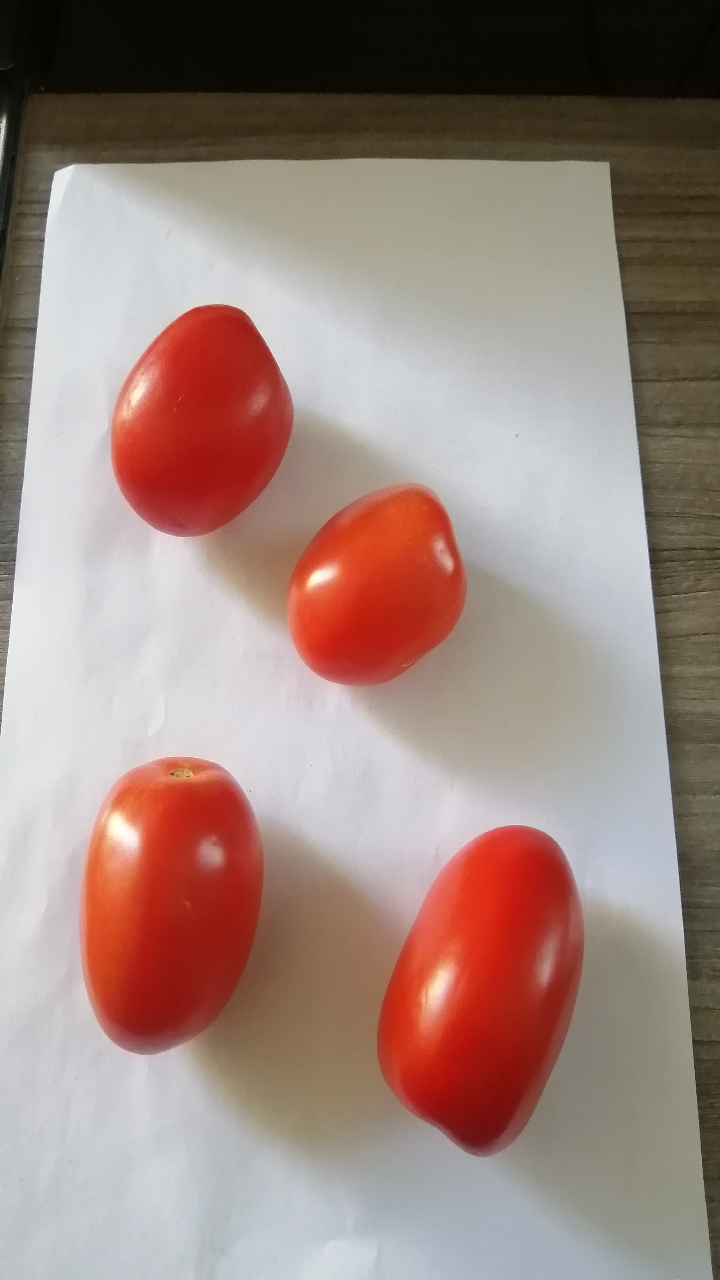tomateRojo: (358, 800, 603, 1185), (38, 728, 278, 1071), (268, 439, 486, 709), (94, 285, 303, 557)
